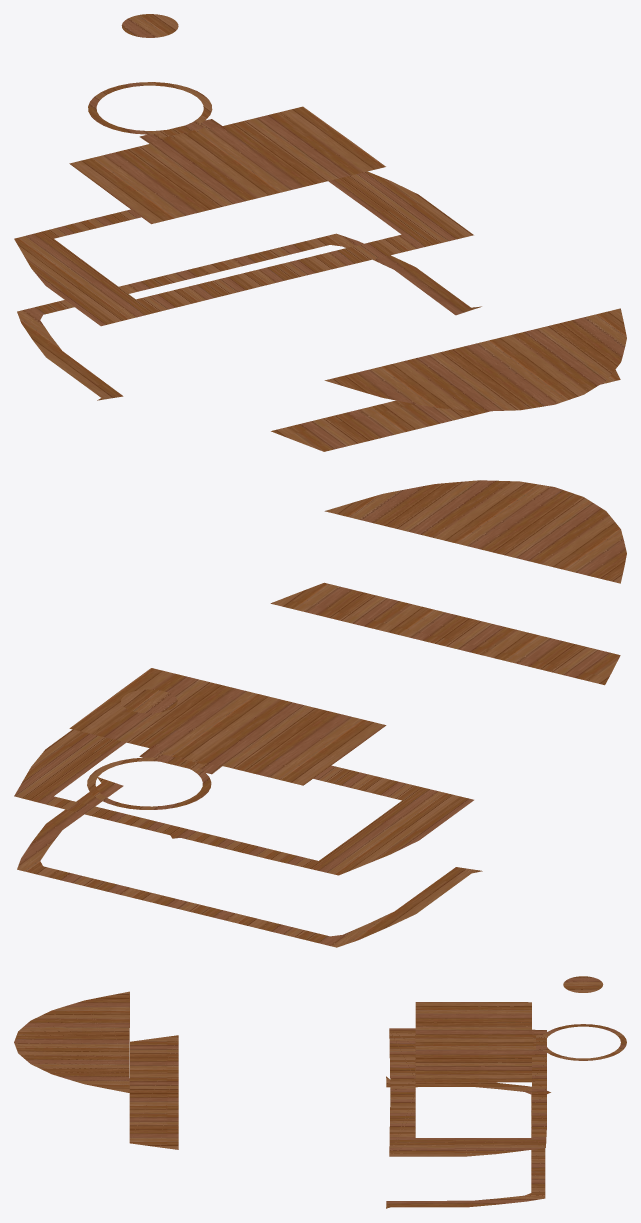
The model's file is PisoMadera.fbx.
3 renders of one model, top to bottom at view 1: azimuth 30°, elevation 25°; view 2: azimuth 150°, elevation 25°; view 3: azimuth 270°, elevation 25°, orthographic. The views are drawn at different scales.
Visible parts, largest first — view 1: PisoMadera; view 2: PisoMadera; view 3: PisoMadera.
Part boxes in pixels (<box>): PisoMadera: <box>14,14,626,451</box>; PisoMadera: <box>14,480,626,947</box>; PisoMadera: <box>14,976,626,1208</box>.
Size of the model in its own units: 4075 by 2290 by 7966.
1 material, 1 textured.
